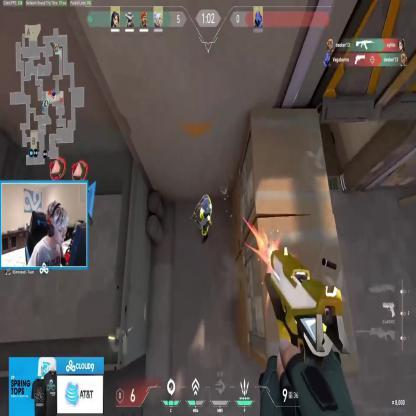enemy: (191, 191, 212, 242)
enemy_head: (202, 198, 209, 211)
